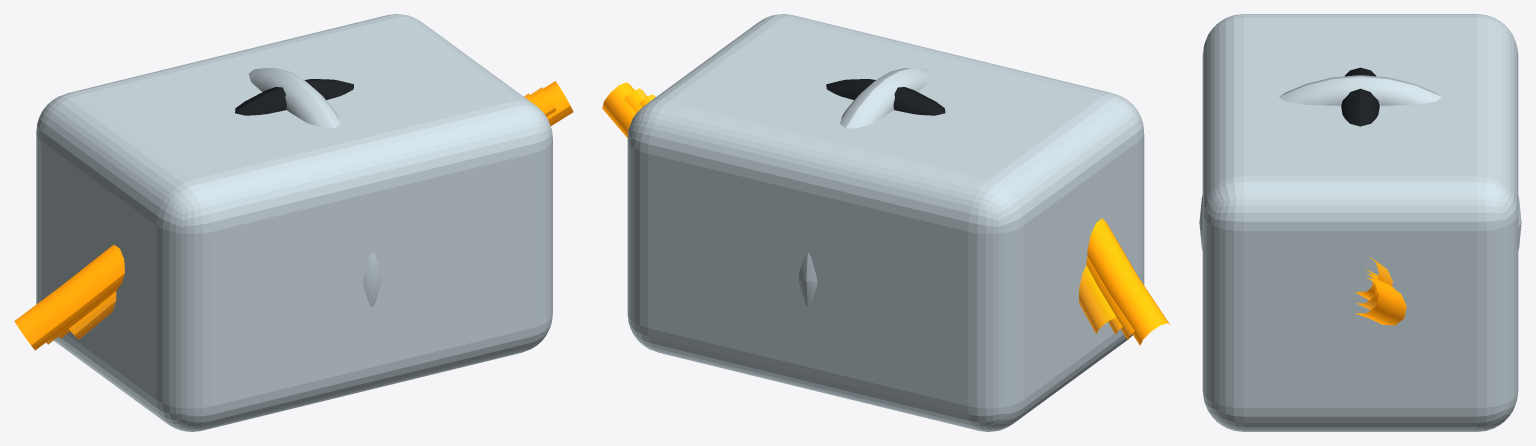
File: transmission_hydraulics_08.glb
3 renders of one model, left to right at view 1: azimuth 30°, elevation 25°; view 2: azimuth 150°, elevation 25°; view 3: azimuth 270°, elevation 25°, orthographic.
Parts seen in each view (by area): view 1: asset_mesh__transmission_hydraulics_0386__reference_body, asset_mesh__transmission_hydraulics_0404__fluid_path, asset_mesh__transmission_hydraulics_0394__functional_ring, asset_mesh__transmission_hydraulics_0375__service_element, asset_mesh__transmission_hydraulics_0410__fluid_path, asset_mesh__transmission_hydraulics_0412__fluid_path; view 2: asset_mesh__transmission_hydraulics_0386__reference_body, asset_mesh__transmission_hydraulics_0404__fluid_path, asset_mesh__transmission_hydraulics_0394__functional_ring, asset_mesh__transmission_hydraulics_0375__service_element, asset_mesh__transmission_hydraulics_0410__fluid_path, asset_mesh__transmission_hydraulics_0412__fluid_path; view 3: asset_mesh__transmission_hydraulics_0386__reference_body, asset_mesh__transmission_hydraulics_0394__functional_ring, asset_mesh__transmission_hydraulics_0375__service_element, asset_mesh__transmission_hydraulics_0404__fluid_path.
Boxes of the visible parts, left/top/right/bottom form: asset_mesh__transmission_hydraulics_0386__reference_body: left=36, top=14, right=552, bottom=431; asset_mesh__transmission_hydraulics_0404__fluid_path: left=14, top=81, right=573, bottom=350; asset_mesh__transmission_hydraulics_0394__functional_ring: left=248, top=67, right=381, bottom=307; asset_mesh__transmission_hydraulics_0375__service_element: left=235, top=79, right=353, bottom=115; asset_mesh__transmission_hydraulics_0410__fluid_path: left=69, top=291, right=116, bottom=339; asset_mesh__transmission_hydraulics_0412__fluid_path: left=46, top=87, right=556, bottom=344; asset_mesh__transmission_hydraulics_0386__reference_body: left=627, top=14, right=1144, bottom=431; asset_mesh__transmission_hydraulics_0404__fluid_path: left=602, top=82, right=1169, bottom=345; asset_mesh__transmission_hydraulics_0394__functional_ring: left=798, top=67, right=931, bottom=307; asset_mesh__transmission_hydraulics_0375__service_element: left=826, top=79, right=945, bottom=115; asset_mesh__transmission_hydraulics_0410__fluid_path: left=1078, top=265, right=1116, bottom=333; asset_mesh__transmission_hydraulics_0412__fluid_path: left=624, top=88, right=1134, bottom=339; asset_mesh__transmission_hydraulics_0386__reference_body: left=1202, top=14, right=1518, bottom=431; asset_mesh__transmission_hydraulics_0394__functional_ring: left=1199, top=75, right=1521, bottom=250; asset_mesh__transmission_hydraulics_0375__service_element: left=1341, top=67, right=1379, bottom=126; asset_mesh__transmission_hydraulics_0404__fluid_path: left=1355, top=277, right=1406, bottom=325.
Bounding box in the file's own units: 1.73 × 0.8573 × 0.8573.
